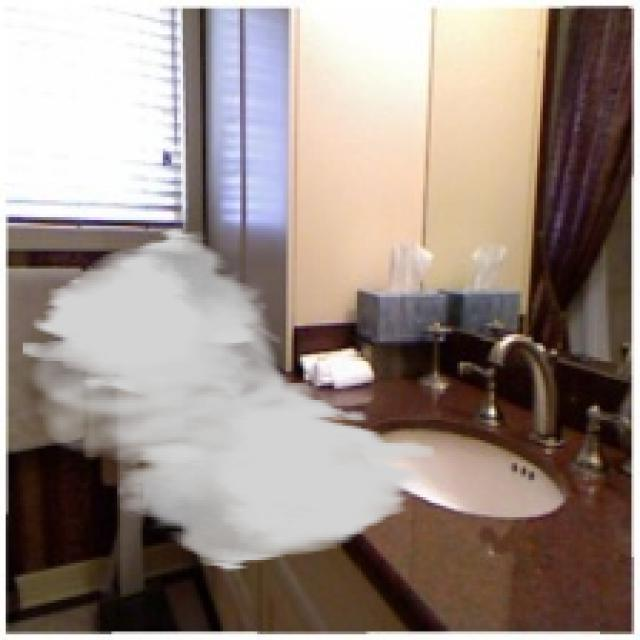Smoke: (19, 226, 434, 572)
